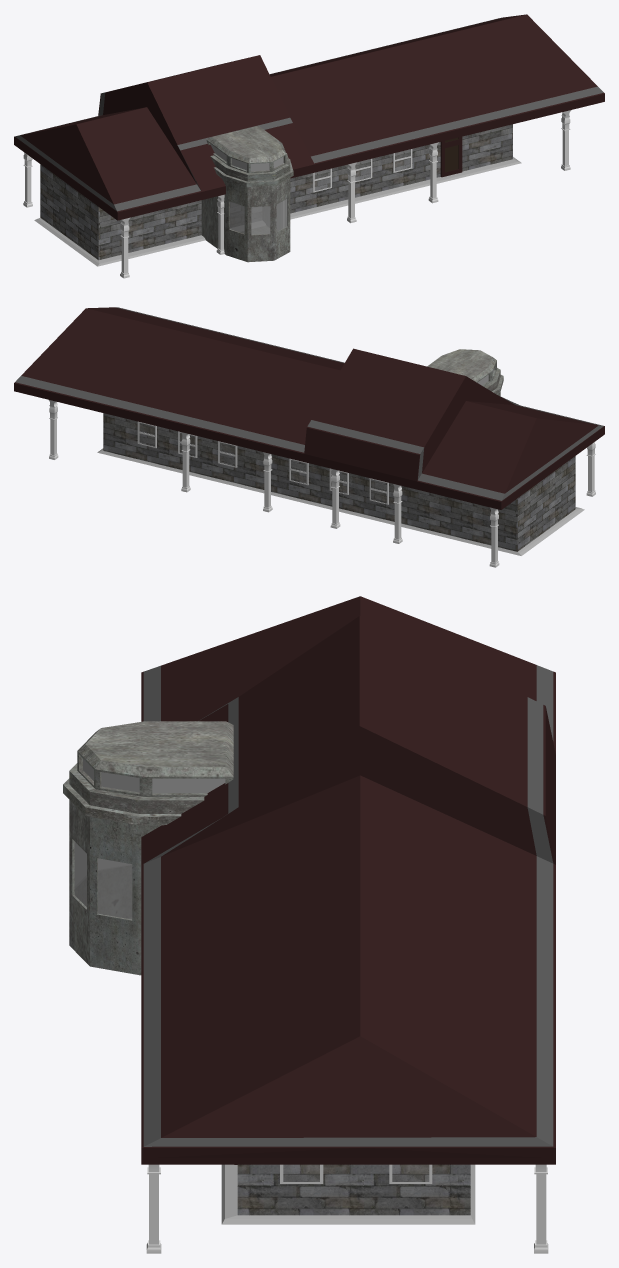
The model's file is SM_T_TrainDepot.fbx.
3 renders of one model, top to bottom at view 1: azimuth 30°, elevation 25°; view 2: azimuth 150°, elevation 25°; view 3: azimuth 270°, elevation 25°, orthographic. The views are drawn at different scales.
Visible parts, largest first — view 1: polySurface19, polySurface20, polySurface47, polySurface38, polySurface22; view 2: polySurface19, polySurface47, polySurface38, polySurface20; view 3: polySurface19, polySurface20, polySurface47, polySurface38.
Boxes of the visible parts, x1,y1,x2,y2 form: polySurface19: [14, 14, 604, 266]; polySurface20: [201, 125, 293, 262]; polySurface47: [23, 110, 571, 278]; polySurface38: [312, 149, 412, 192]; polySurface22: [440, 136, 462, 177]; polySurface19: [14, 307, 604, 555]; polySurface47: [49, 400, 595, 567]; polySurface38: [137, 421, 388, 504]; polySurface20: [427, 349, 503, 396]; polySurface19: [141, 596, 555, 1224]; polySurface20: [63, 721, 233, 975]; polySurface47: [146, 1164, 548, 1253]; polySurface38: [280, 1164, 432, 1183].
Size of the model in its own units: 3977 by 1078 by 1740.
12 materials, 2 textured.
